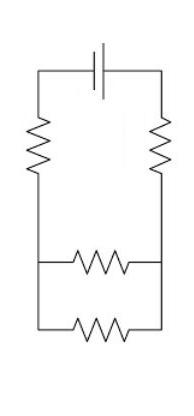resistor: (46, 234, 149, 286), (63, 303, 155, 356), (15, 101, 57, 187), (137, 104, 179, 183)
